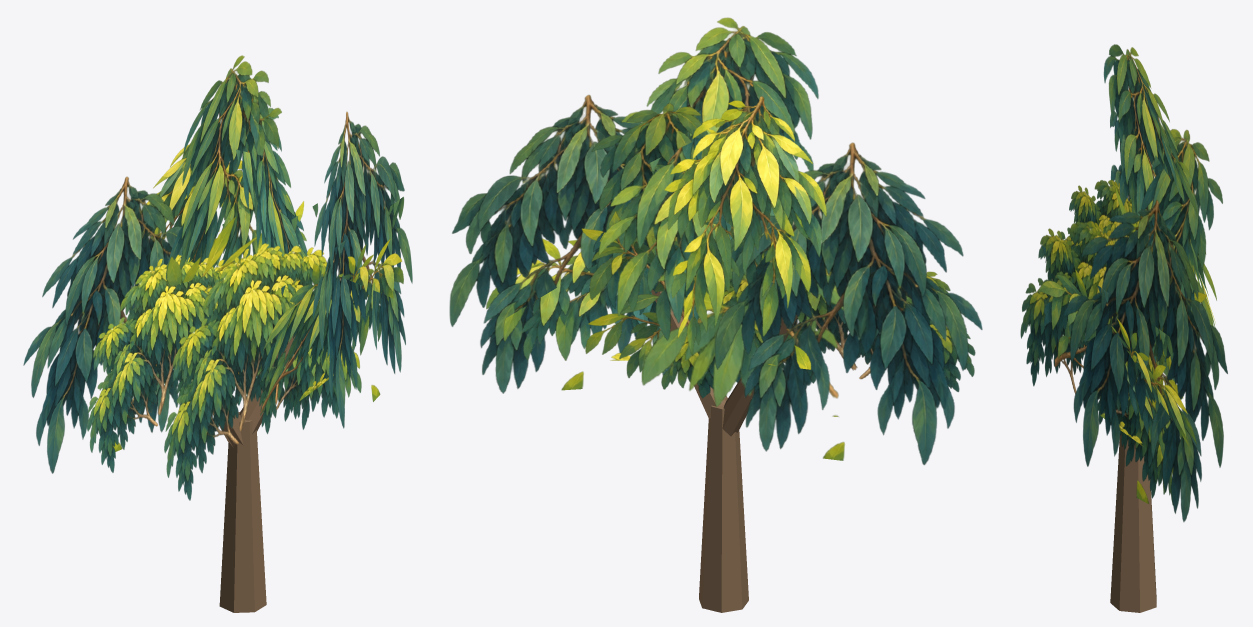
File: TREE_NATIVE_ROUNDED_001_SHAPE_SAFE_LOD_CLOSE.glb
3 renders of one model, left to right at view 1: azimuth 30°, elevation 25°; view 2: azimuth 150°, elevation 25°; view 3: azimuth 270°, elevation 25°, orthographic. The views are drawn at different scales.
Visible parts, largest first — view 1: GG_NATIVE_SHAPE_SAFE_CARD_07, GG_NATIVE_SHAPE_SAFE_CARD_03, GG_NATIVE_SHAPE_SAFE_CARD_05, GG_NATIVE_SHAPE_SAFE_CARD_04, GG_NATIVE_SHAPE_SAFE_CARD_00, GG_NATIVE_SHAPE_SAFE_CARD_06, GG_NATIVE_V4_LOCKED_CARCASS_00, GG_NATIVE_SHAPE_SAFE_CARD_02, GG_NATIVE_SHAPE_SAFE_CARD_01, GG_NATIVE_SHAPE_SAFE_CARD_08, GG_NATIVE_V4_LOCKED_CARCASS_02; view 2: GG_NATIVE_SHAPE_SAFE_CARD_03, GG_NATIVE_SHAPE_SAFE_CARD_05, GG_NATIVE_SHAPE_SAFE_CARD_01, GG_NATIVE_SHAPE_SAFE_CARD_00, GG_NATIVE_V4_LOCKED_CARCASS_00, GG_NATIVE_SHAPE_SAFE_CARD_02, GG_NATIVE_SHAPE_SAFE_CARD_06, GG_NATIVE_SHAPE_SAFE_CARD_08, GG_NATIVE_SHAPE_SAFE_CARD_04, GG_NATIVE_SHAPE_SAFE_CARD_09, GG_NATIVE_V4_LOCKED_CARCASS_01; view 3: GG_NATIVE_SHAPE_SAFE_CARD_05, GG_NATIVE_SHAPE_SAFE_CARD_07, GG_NATIVE_SHAPE_SAFE_CARD_00, GG_NATIVE_V4_LOCKED_CARCASS_00, GG_NATIVE_SHAPE_SAFE_CARD_02, GG_NATIVE_SHAPE_SAFE_CARD_06, GG_NATIVE_SHAPE_SAFE_CARD_04, GG_NATIVE_SHAPE_SAFE_CARD_03, GG_NATIVE_SHAPE_SAFE_CARD_09.
Part boxes in pixels (x1,y1,x2,y2): GG_NATIVE_SHAPE_SAFE_CARD_07: (164,203,361,500); GG_NATIVE_SHAPE_SAFE_CARD_03: (23,176,205,473); GG_NATIVE_SHAPE_SAFE_CARD_05: (313,111,412,428); GG_NATIVE_SHAPE_SAFE_CARD_04: (87,224,262,472); GG_NATIVE_SHAPE_SAFE_CARD_00: (165,55,281,279); GG_NATIVE_SHAPE_SAFE_CARD_06: (260,196,403,413); GG_NATIVE_V4_LOCKED_CARCASS_00: (219,412,266,612); GG_NATIVE_SHAPE_SAFE_CARD_02: (236,96,307,283); GG_NATIVE_SHAPE_SAFE_CARD_01: (142,143,242,264); GG_NATIVE_SHAPE_SAFE_CARD_08: (132,216,261,402); GG_NATIVE_V4_LOCKED_CARCASS_02: (239,334,300,433); GG_NATIVE_SHAPE_SAFE_CARD_03: (715,142,982,464); GG_NATIVE_SHAPE_SAFE_CARD_05: (449,95,692,393); GG_NATIVE_SHAPE_SAFE_CARD_01: (664,96,826,369); GG_NATIVE_SHAPE_SAFE_CARD_00: (598,17,818,340); GG_NATIVE_V4_LOCKED_CARCASS_00: (699,405,748,612); GG_NATIVE_SHAPE_SAFE_CARD_02: (591,103,708,314); GG_NATIVE_SHAPE_SAFE_CARD_06: (486,216,726,360); GG_NATIVE_SHAPE_SAFE_CARD_08: (641,233,843,416); GG_NATIVE_SHAPE_SAFE_CARD_04: (661,221,975,401); GG_NATIVE_SHAPE_SAFE_CARD_09: (581,211,726,377); GG_NATIVE_V4_LOCKED_CARCASS_01: (722,314,797,436); GG_NATIVE_SHAPE_SAFE_CARD_05: (1064,200,1227,522); GG_NATIVE_SHAPE_SAFE_CARD_07: (1020,220,1173,504); GG_NATIVE_SHAPE_SAFE_CARD_00: (1103,44,1216,338); GG_NATIVE_V4_LOCKED_CARCASS_00: (1110,433,1156,612); GG_NATIVE_SHAPE_SAFE_CARD_02: (1141,129,1222,373); GG_NATIVE_SHAPE_SAFE_CARD_06: (1038,245,1196,457); GG_NATIVE_SHAPE_SAFE_CARD_04: (1060,179,1163,395); GG_NATIVE_SHAPE_SAFE_CARD_03: (1110,87,1174,381); GG_NATIVE_SHAPE_SAFE_CARD_09: (1129,199,1206,398).
Bounding box in the file's own units: 36.08 × 41.89 × 15.31.
Materials: 2 (1 with a texture image).
